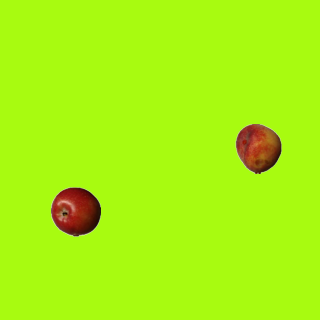Apple Braeburn: (50, 186, 100, 236)
Peach: (233, 123, 283, 173)
